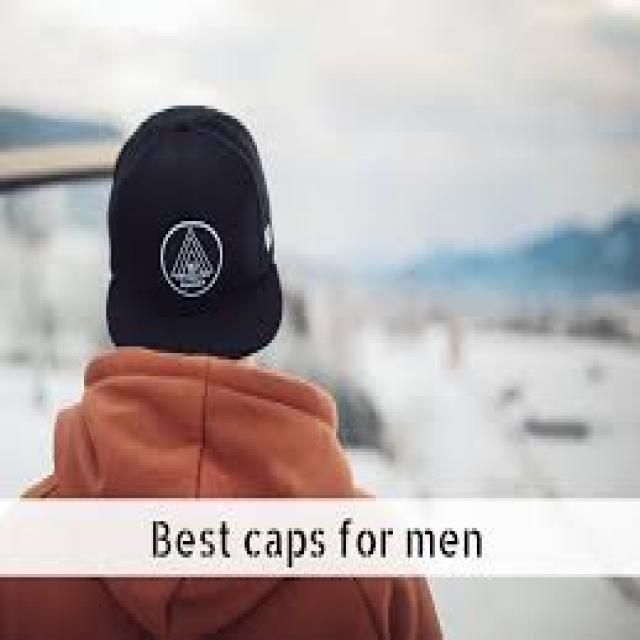suspicious-objects: (109, 106, 282, 358)
